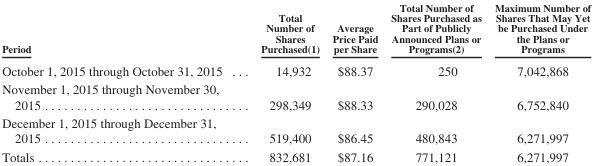table: (1, 1, 590, 163)
table column: (1, 1, 240, 163), (383, 1, 487, 163), (487, 1, 590, 163), (240, 1, 325, 163), (325, 1, 383, 163)
table column header: (1, 1, 590, 58)
table row: (1, 1, 590, 58), (1, 79, 590, 113), (1, 113, 590, 147), (1, 58, 590, 79), (1, 147, 590, 163)
